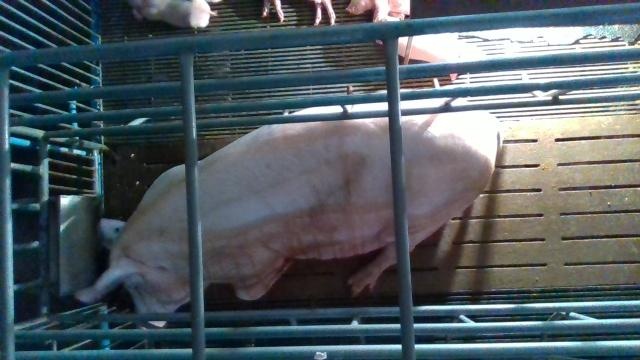piglet: (399, 35, 487, 63), (127, 0, 218, 27), (345, 0, 410, 21)
sow-sleep: (72, 89, 504, 329)
